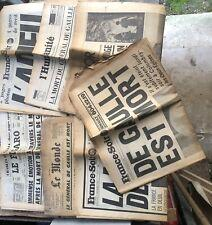paper: (0, 0, 206, 225)
